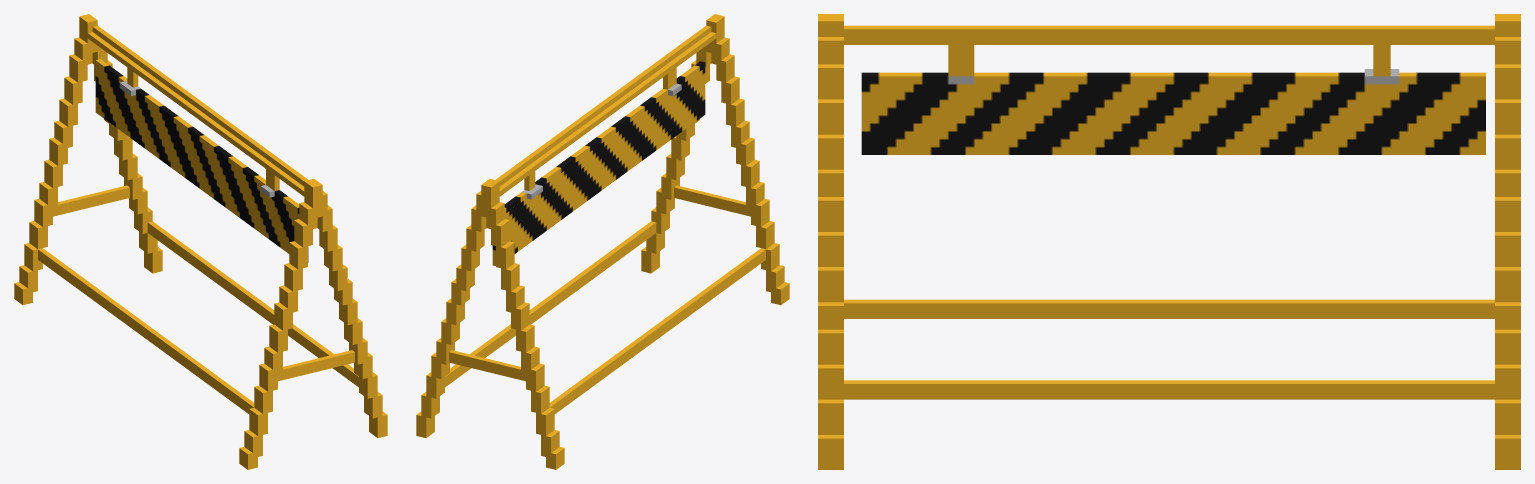
The model's file is SM_Barricade_03T.fbx.
3 renders of one model, left to right at view 1: azimuth 30°, elevation 25°; view 2: azimuth 150°, elevation 25°; view 3: azimuth 270°, elevation 25°, orthographic. The views are drawn at different scales.
Parts seen in each view (by area): view 1: SM_Barricade_03T; view 2: SM_Barricade_03T; view 3: SM_Barricade_03T.
Part boxes in pixels (box(x1,y1,x2,y2)): SM_Barricade_03T: box(14, 14, 387, 469); SM_Barricade_03T: box(416, 14, 789, 469); SM_Barricade_03T: box(818, 14, 1520, 469).
Bounding box in the file's own units: 28 × 51 × 81.
